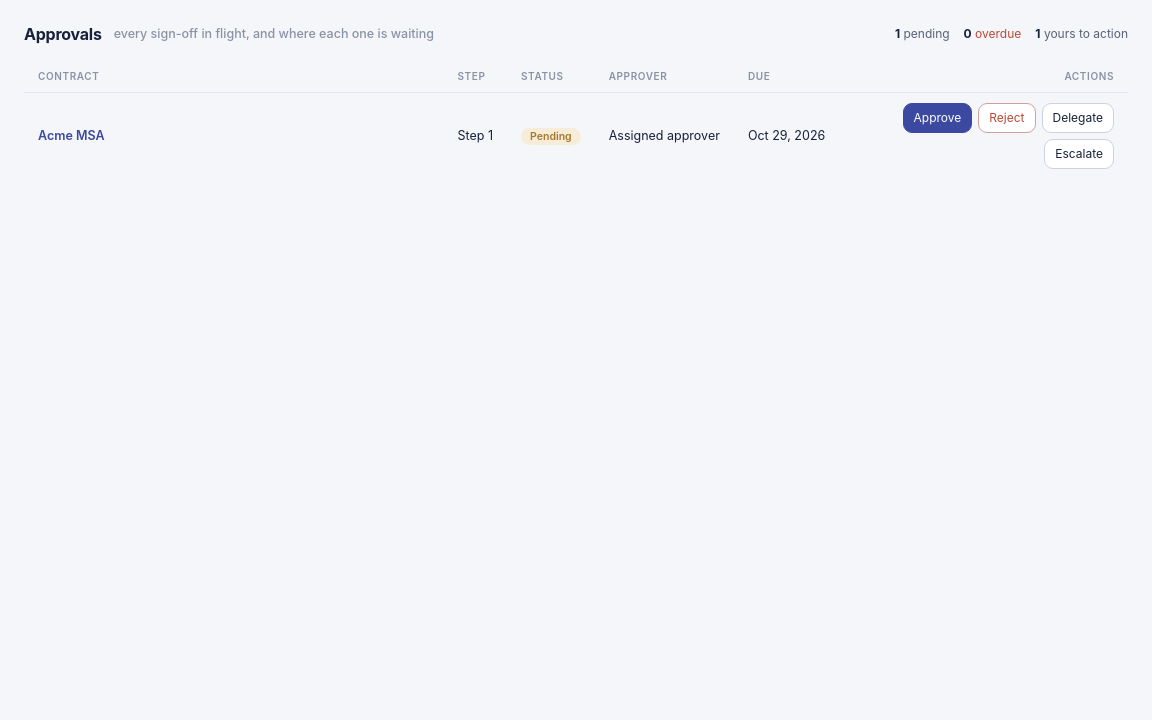
Test case: the boxes and messages say which contract › names the contract and step in the Reject box
The image size is (1152, 720).
Step 1. Click the button "Reject" → (1007,118), box [978, 103, 1036, 133]
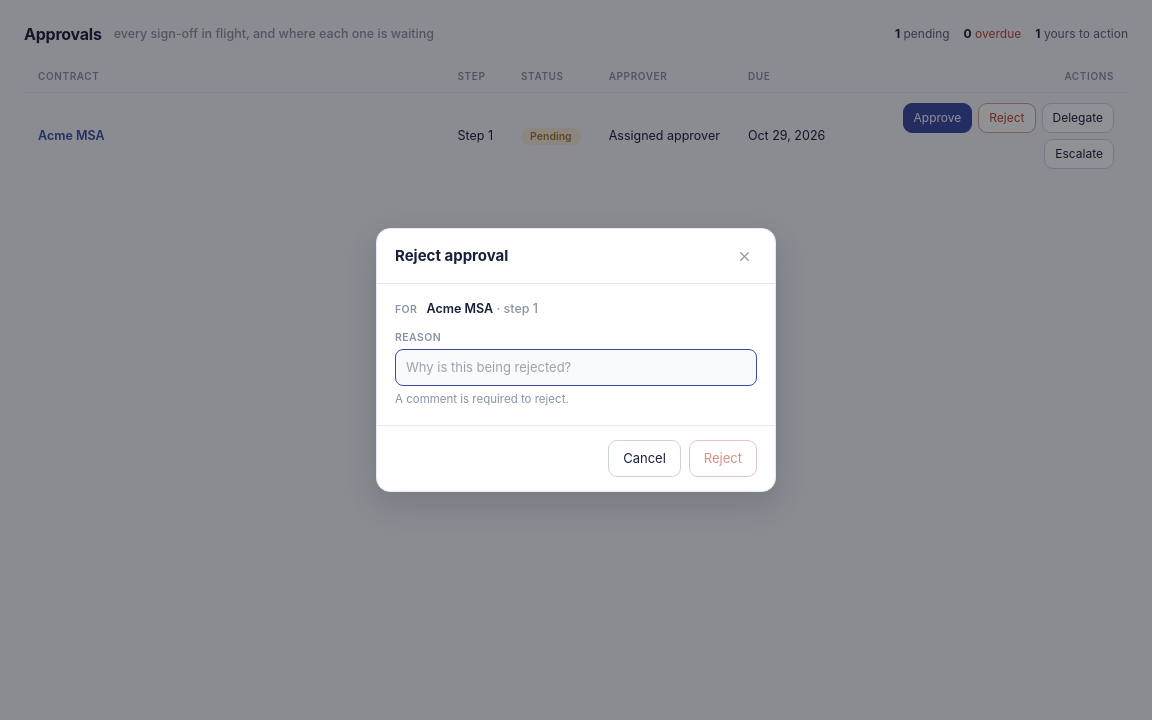
Check: the element "Reject approval" shows "Acme MSA", box [426, 301, 493, 316]
Check: the element "Reject approval" shows "step 1", box [376, 228, 776, 492]
